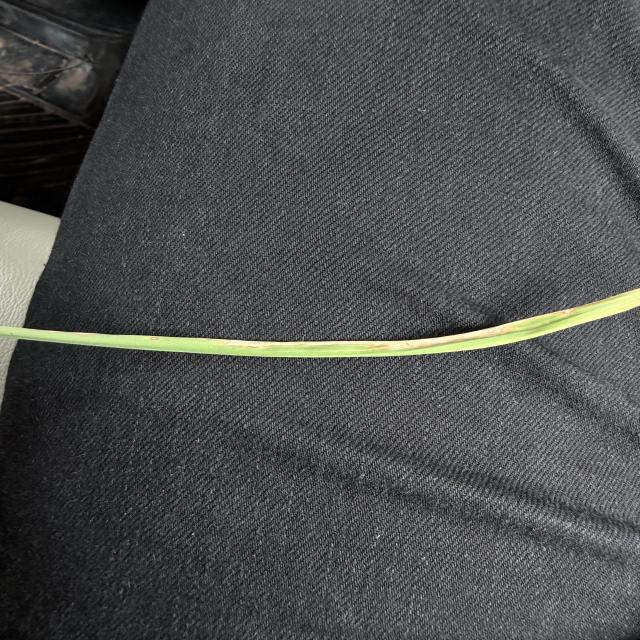Chay bia la: (213, 307, 572, 353)
